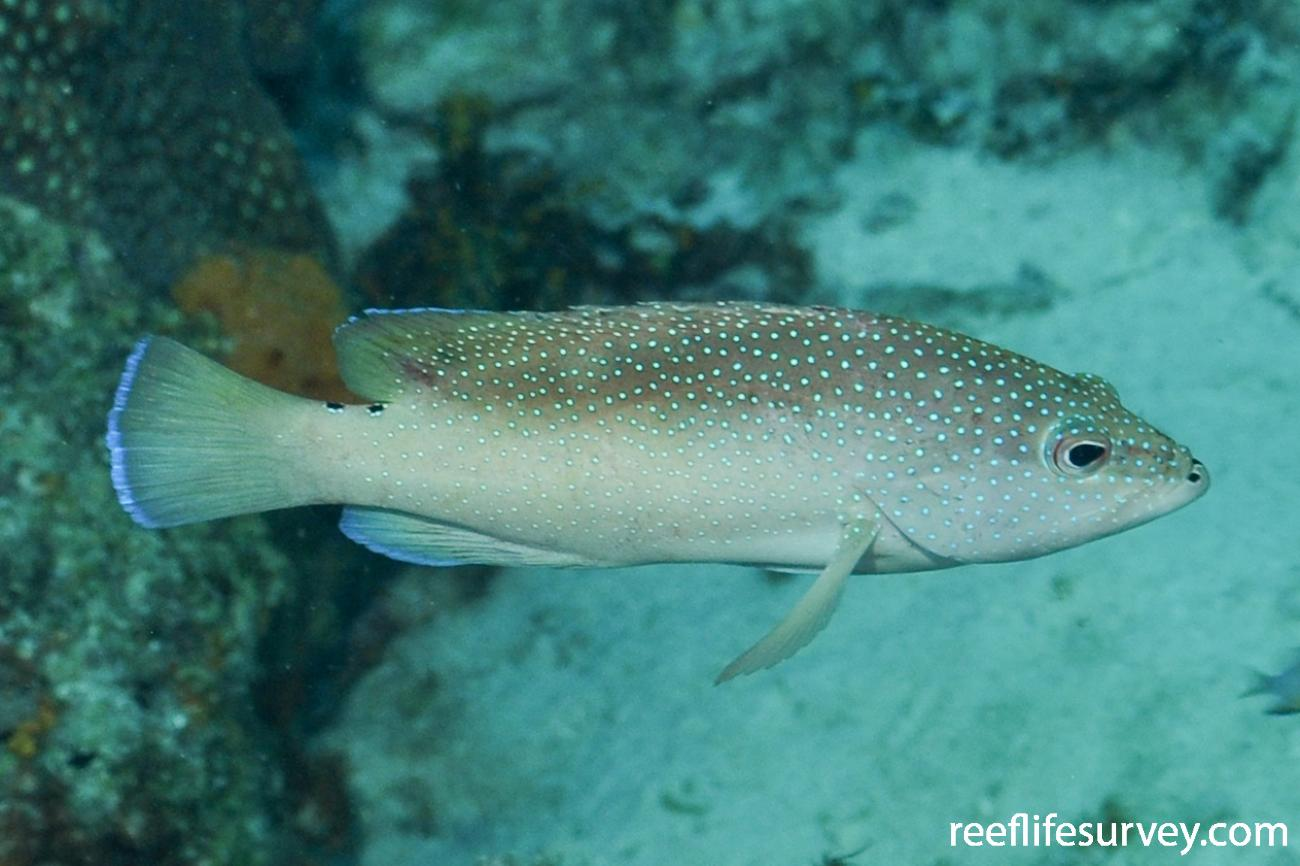Cephalopholis_fulvaw: (100, 228, 1276, 668)
